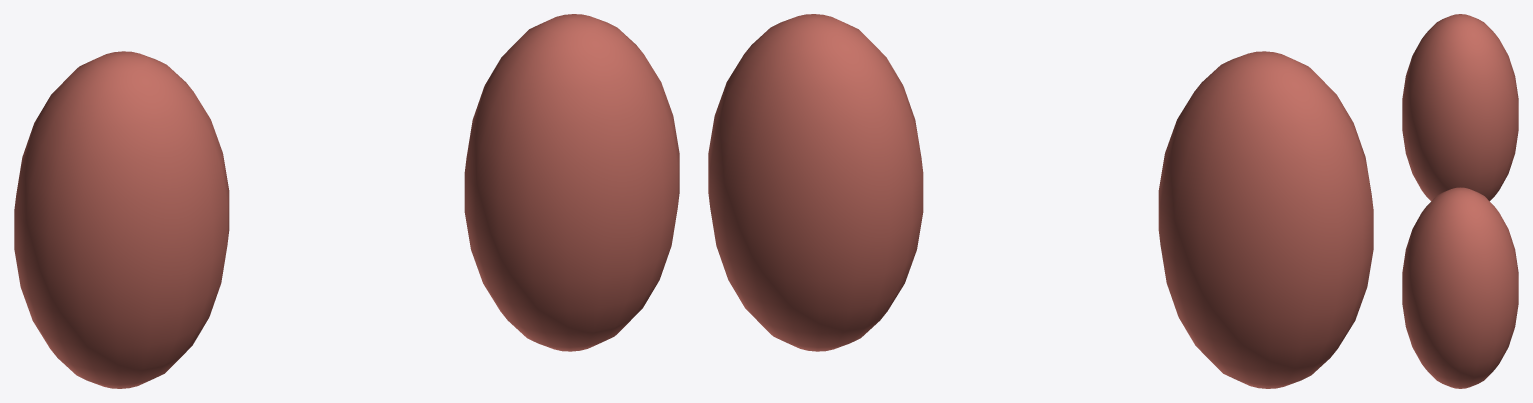
File: kidneys.glb
3 views of the same model, side by side, from view 1: azimuth 30°, elevation 25°; view 2: azimuth 150°, elevation 25°; view 3: azimuth 270°, elevation 25° (orthographic). The views are drawn at different scales.
Visible parts, largest first — view 1: organ_kidney_left, organ_kidney_right; view 2: organ_kidney_left, organ_kidney_right; view 3: organ_kidney_right, organ_kidney_left.
Part boxes in pixels (bbox=[...]): organ_kidney_left: bbox=[14, 51, 229, 388]; organ_kidney_right: bbox=[464, 14, 679, 351]; organ_kidney_left: bbox=[1158, 51, 1373, 388]; organ_kidney_right: bbox=[708, 14, 923, 351]; organ_kidney_right: bbox=[1402, 187, 1518, 388]; organ_kidney_left: bbox=[1402, 14, 1518, 201].
Bounding box in the file's own units: 0.1856 × 0.11 × 0.0489.
